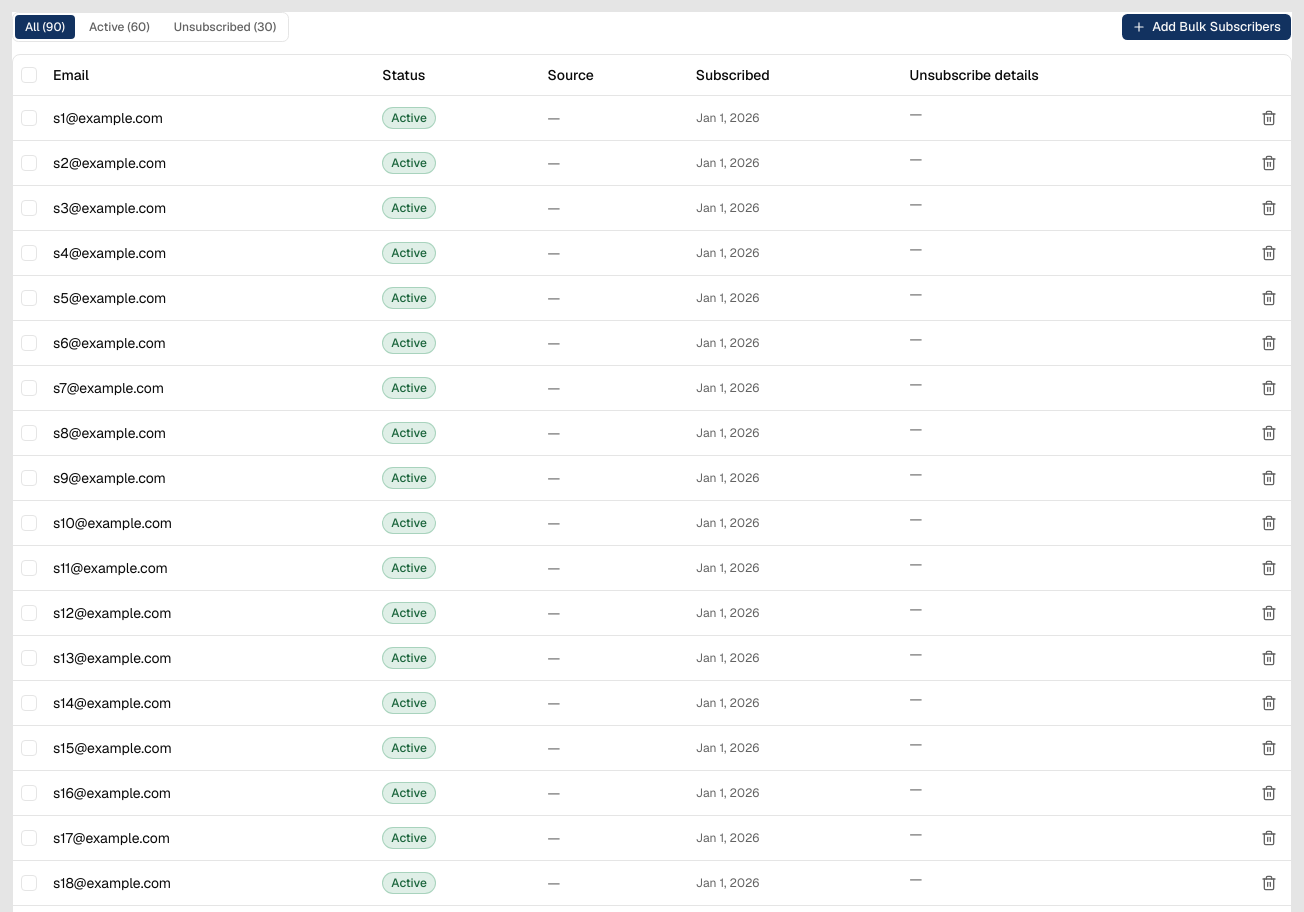
SubscriberList — status tabs navigate via URL and reset selection (Pass 7 §24, Pass 8 §2) › changing the filter clears an active 'select all matching' selection (never carries over to a different dataset)
What coordinates should you click on to do the following:
click the checkbox named "Select all subscribers on this page"
I would click on:
 (29, 75)
Its box is [21,67,37,83].
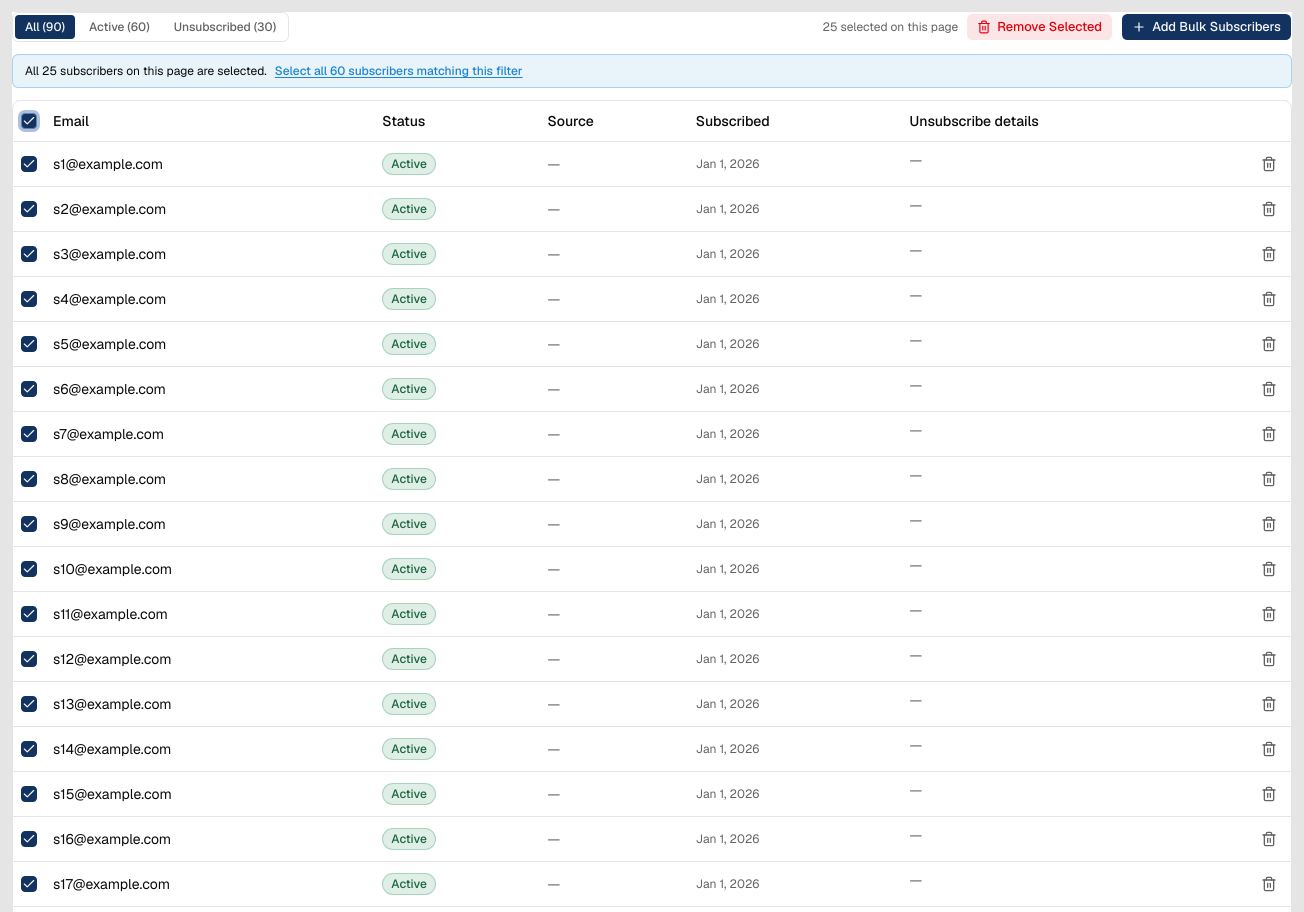
What coordinates should you click on to do the following:
click the button "Select all 60 subscribers matching this filter"
I would click on:
 (399, 71)
Its box is [275,63,522,79].
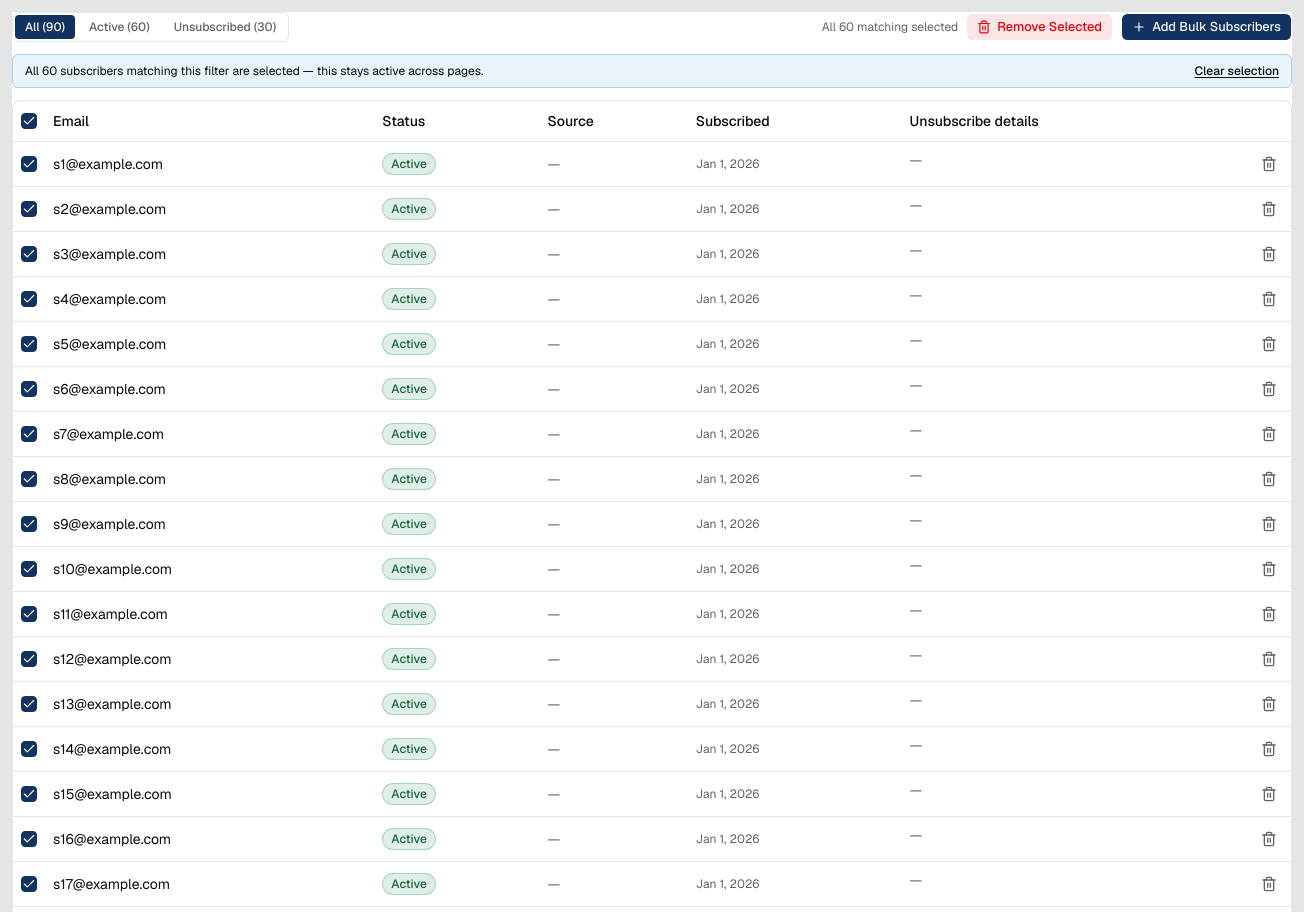
Expected: the text "All 60 subscribers matching this filter are selected" is shown, [25,63,483,79]
What coordinates should you click on to do the following:
click the button "Active (60)"
I would click on:
 (119, 27)
Its box is [79,15,160,39].
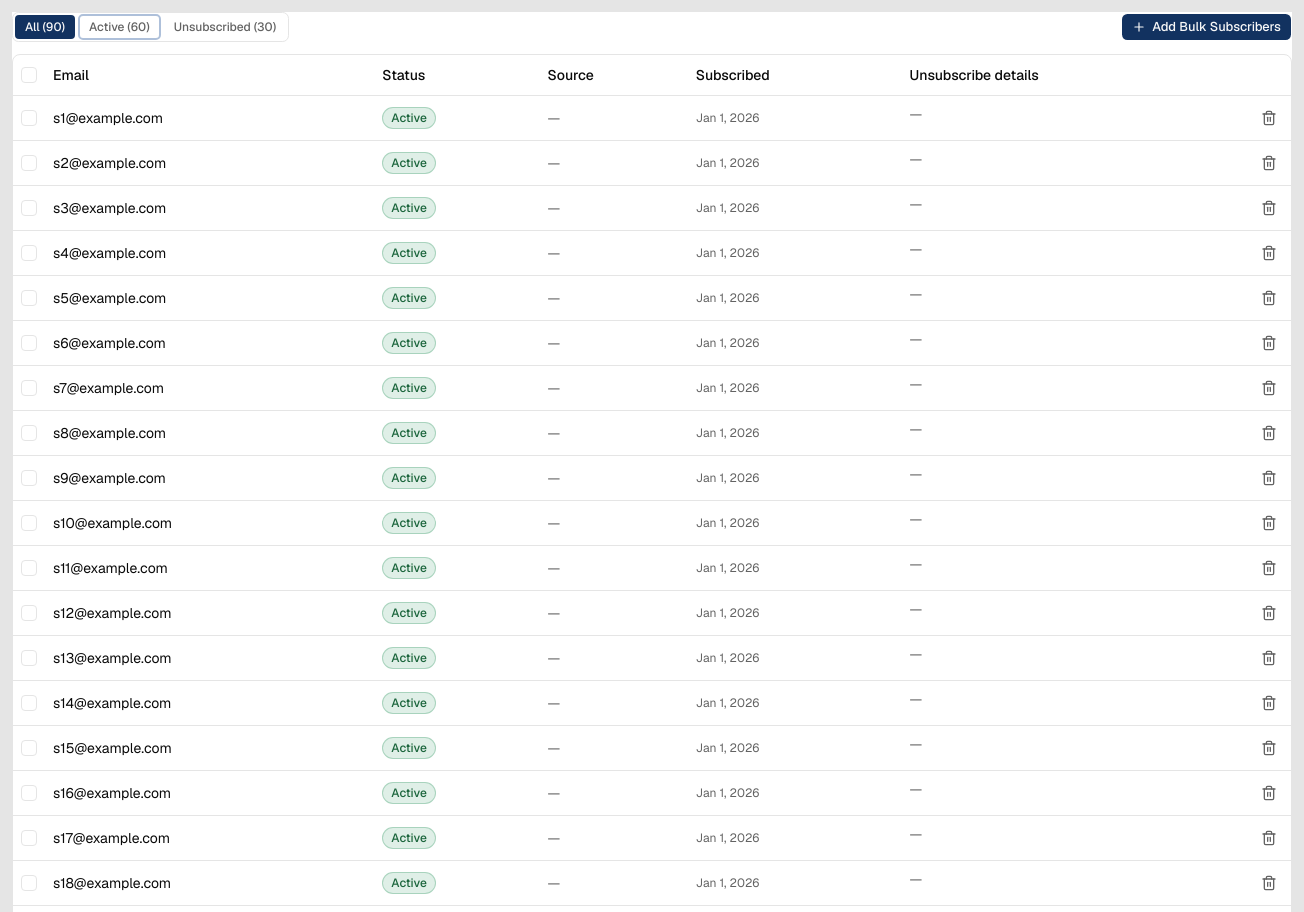
Expected: the text "matching this filter are selected" is gone
Expected: the text "selected" is gone
